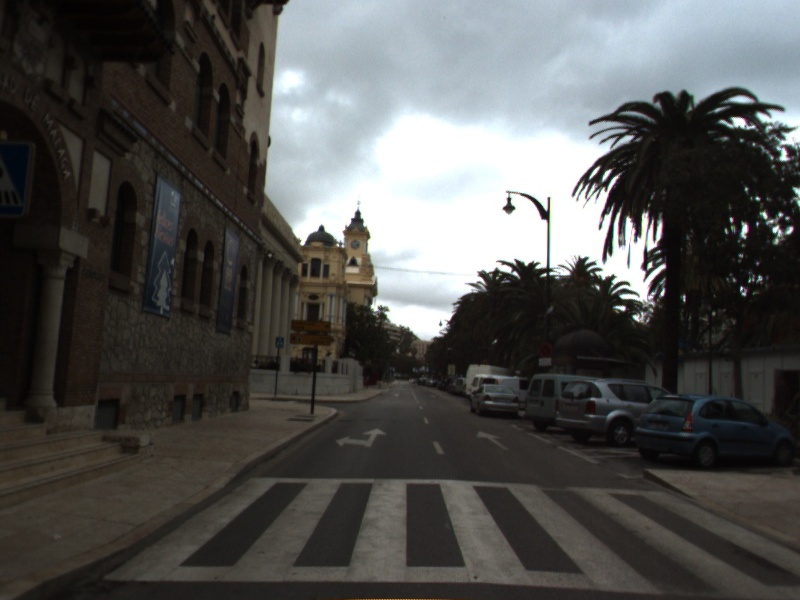STRAIGHT: (474, 428, 511, 452)
STRAIGHT_LEFT: (334, 426, 389, 449)
